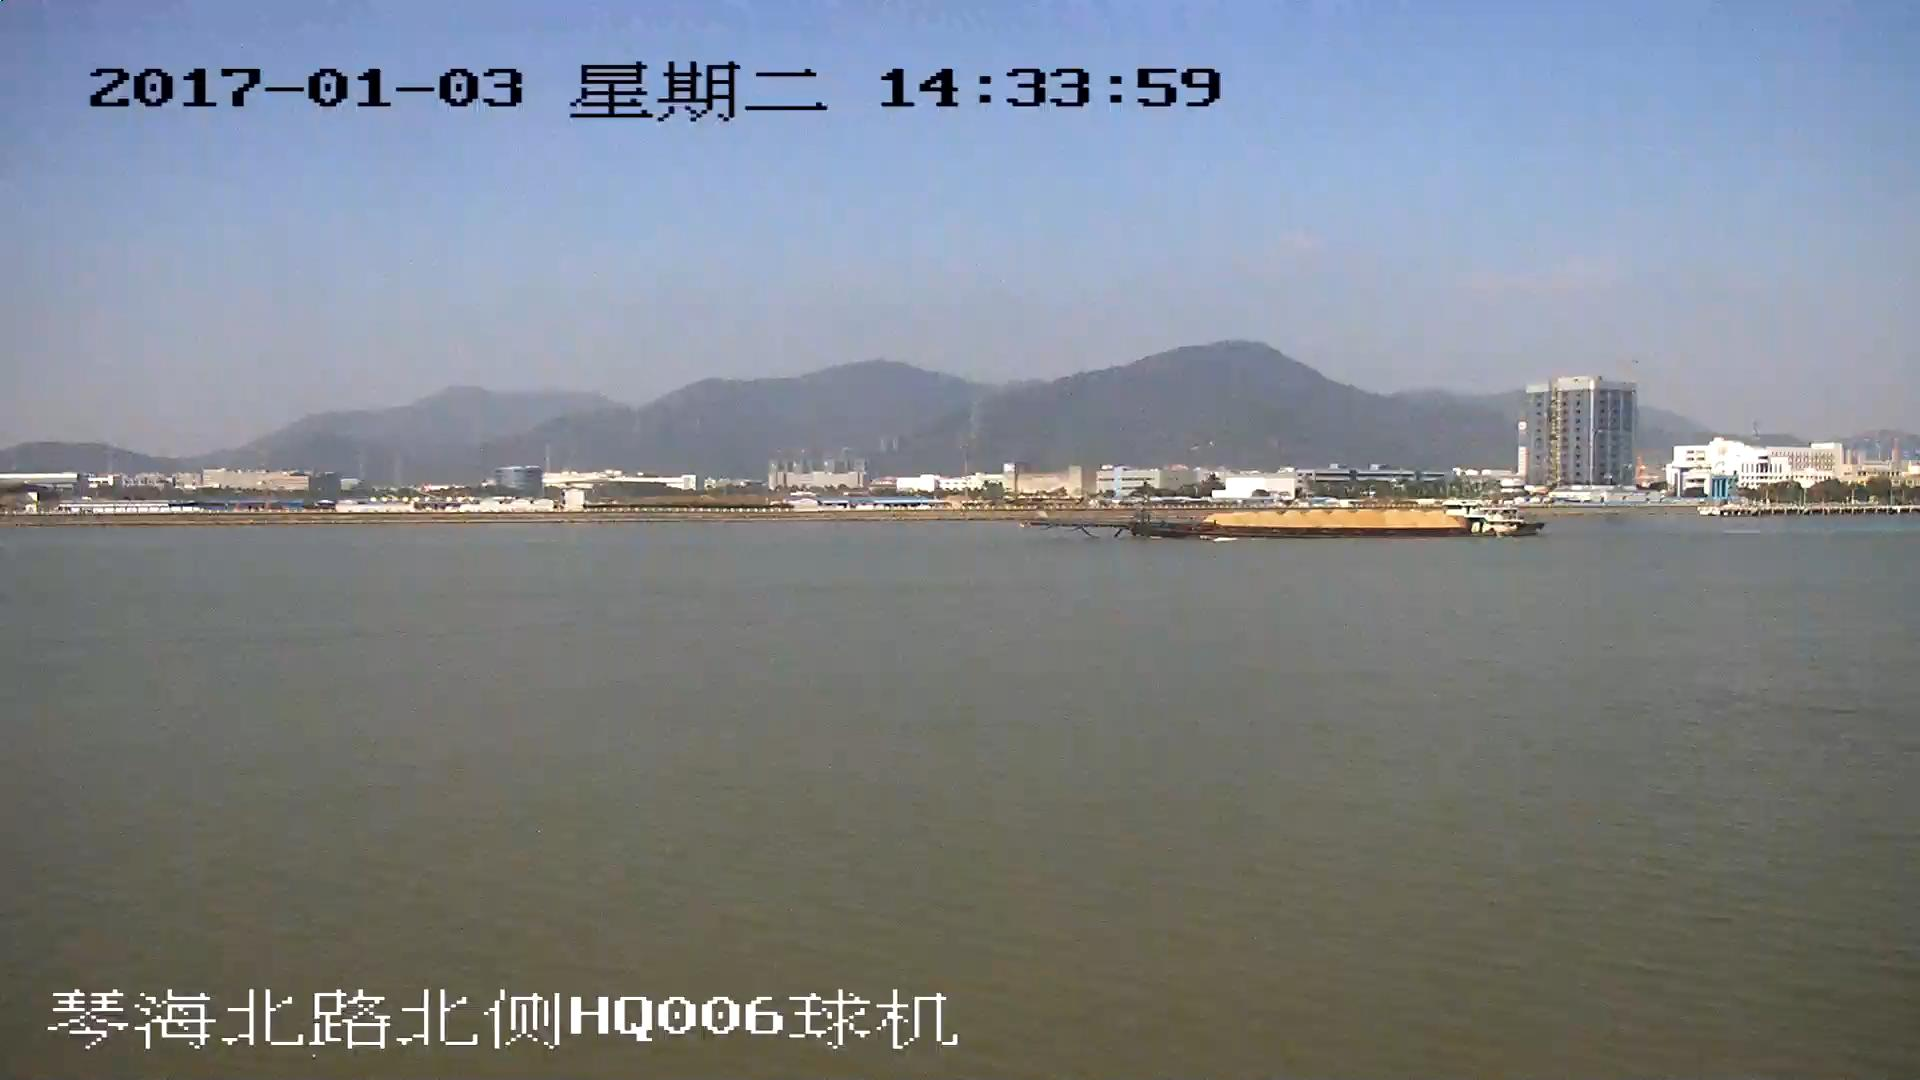ore carrier: (1031, 489, 1539, 537)
